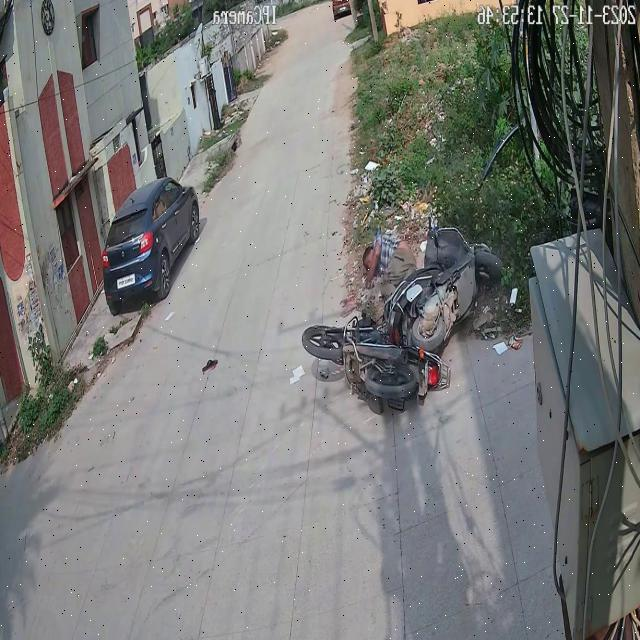accident: (297, 203, 511, 414)
